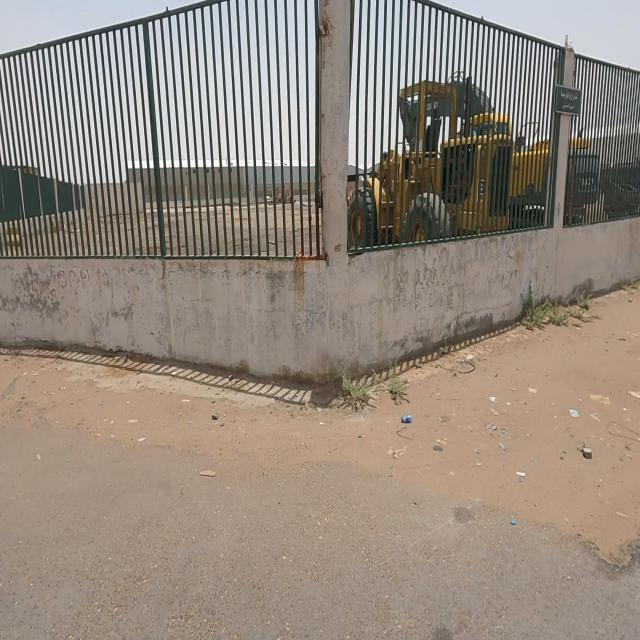debris: (452, 384, 542, 494), (537, 410, 637, 499), (104, 398, 172, 499), (537, 380, 635, 446), (372, 376, 440, 468), (480, 478, 544, 560), (506, 357, 564, 428), (192, 390, 245, 462)
